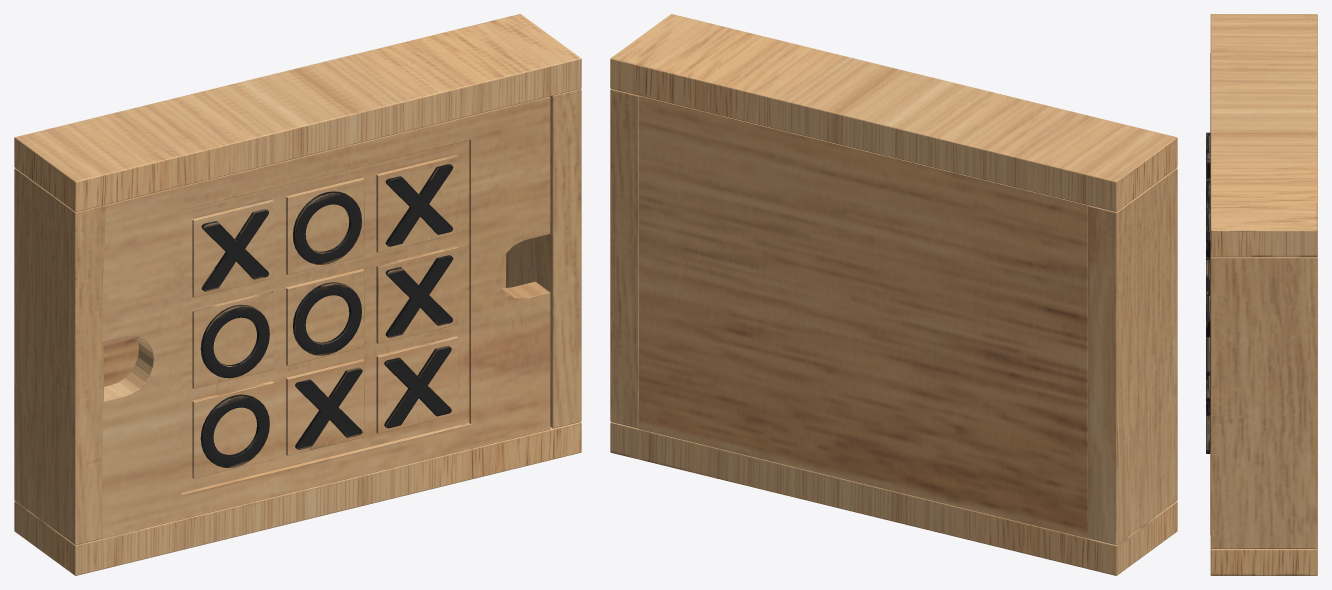
File: game-box-natural.glb
The picture shows the model from 3 angles, left to right: view 1: azimuth 30°, elevation 25°; view 2: azimuth 150°, elevation 25°; view 3: azimuth 270°, elevation 25°; orthographic projection. The views are drawn at different scales.
Parts seen in each view (by area): view 1: Cube.005; view 2: Cube.005; view 3: Cube.005.
Part boxes in pixels (x1,y1,x2,y2): Cube.005: (14,14,581,575); Cube.005: (610,14,1177,575); Cube.005: (1206,14,1317,575).
Size of the model in its own units: 0.172 by 0.128 by 0.0375.
1 material, 1 textured.
